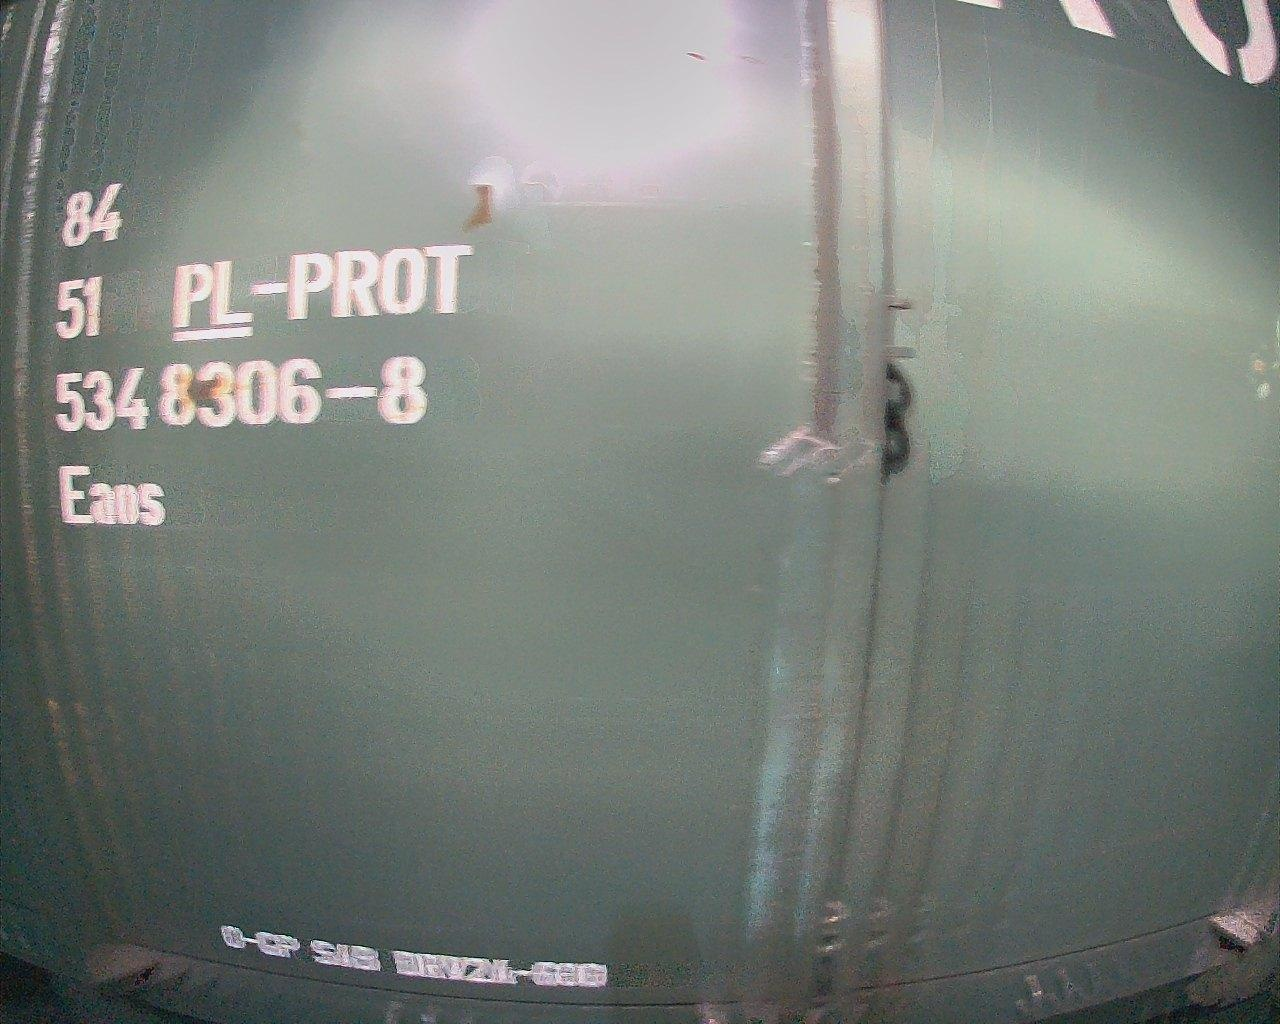UIC: (46, 180, 478, 530)
